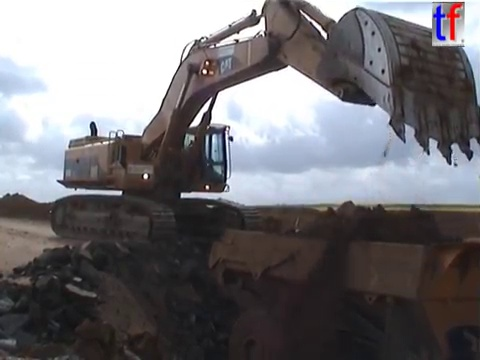excavator: (46, 1, 480, 249)
truck: (204, 207, 480, 360)
